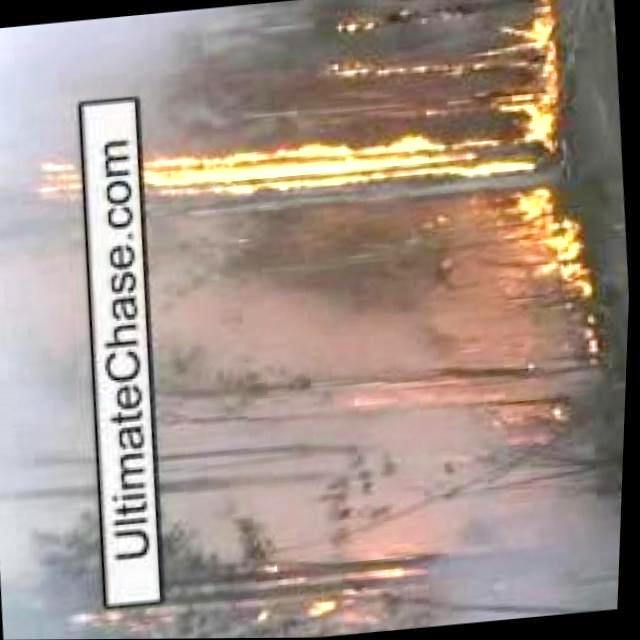fire: (49, 104, 558, 216), (502, 186, 586, 304), (478, 0, 562, 68)
